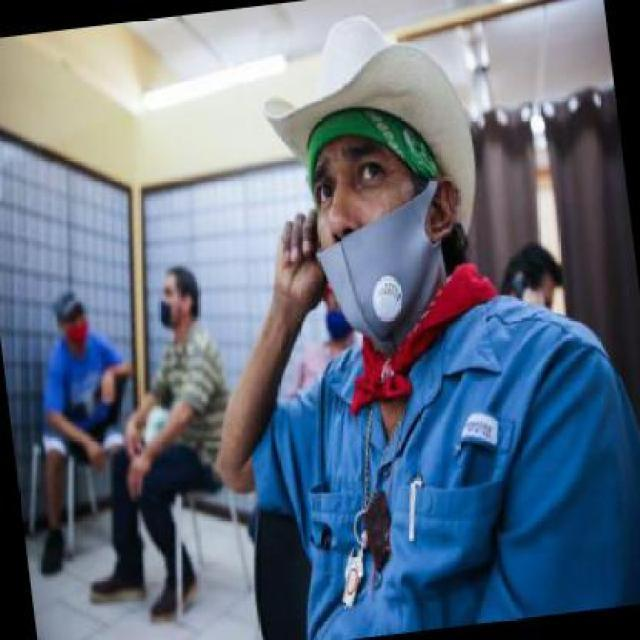hairnet: (302, 128, 458, 362), (58, 311, 92, 344)
